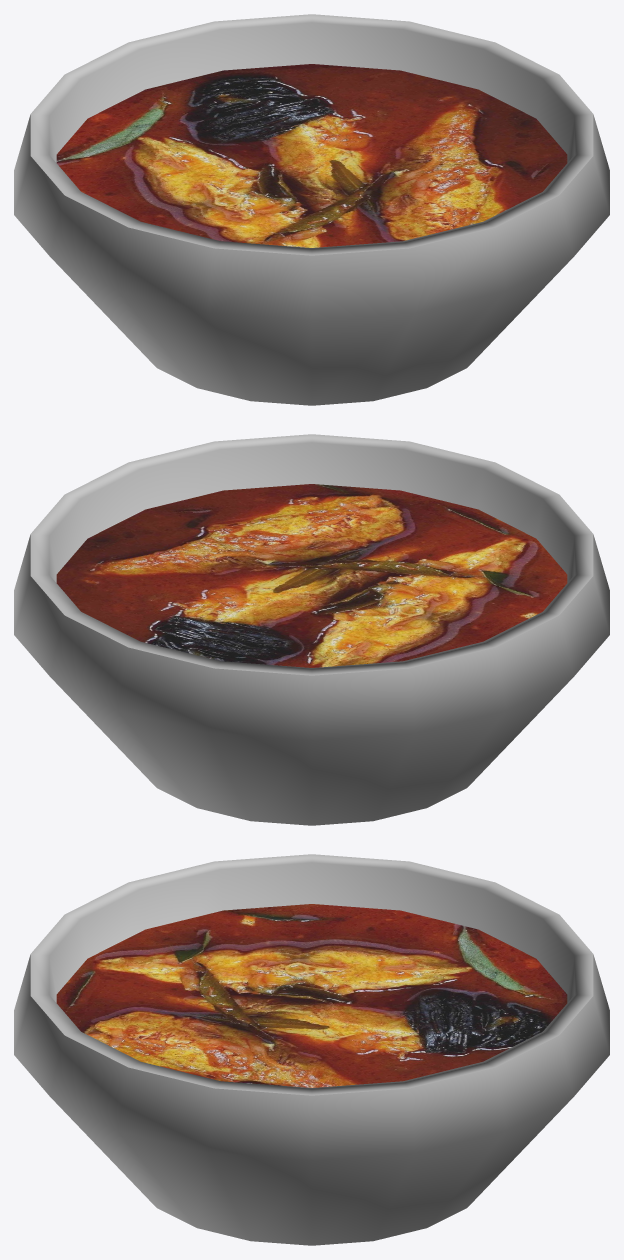
File: fish.fbx
3 renders of one model, top to bottom at view 1: azimuth 30°, elevation 25°; view 2: azimuth 150°, elevation 25°; view 3: azimuth 270°, elevation 25°, orthographic.
Visible parts, largest first — view 1: venky1:pCylinder13, venky1:pCylinder14; view 2: venky1:pCylinder13, venky1:pCylinder14; view 3: venky1:pCylinder13, venky1:pCylinder14.
Part boxes in pixels (x1,y1,x2,y2): venky1:pCylinder13: (14,14,609,405); venky1:pCylinder14: (56,64,567,247); venky1:pCylinder13: (14,434,609,825); venky1:pCylinder14: (56,484,567,667); venky1:pCylinder13: (14,854,609,1245); venky1:pCylinder14: (56,904,567,1087).
Size of the model in its own units: 46.99 by 16.7 by 46.27.
Materials: 2 (1 with a texture image).
